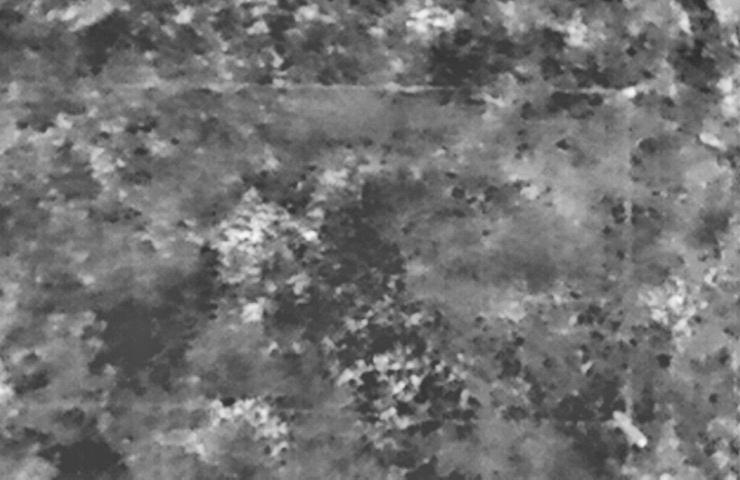landmines: (212, 200, 293, 276)
